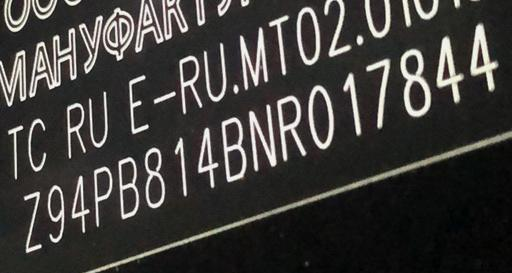letter: (397, 44, 435, 123), (466, 19, 502, 99), (432, 32, 470, 107), (363, 53, 395, 134), (276, 93, 312, 164), (246, 101, 280, 174), (306, 81, 338, 150), (218, 114, 250, 183), (339, 67, 367, 138), (117, 147, 143, 222), (90, 158, 116, 230), (195, 125, 221, 196), (141, 142, 167, 212), (20, 185, 46, 255), (68, 165, 92, 239), (45, 179, 67, 250), (170, 133, 194, 198)
